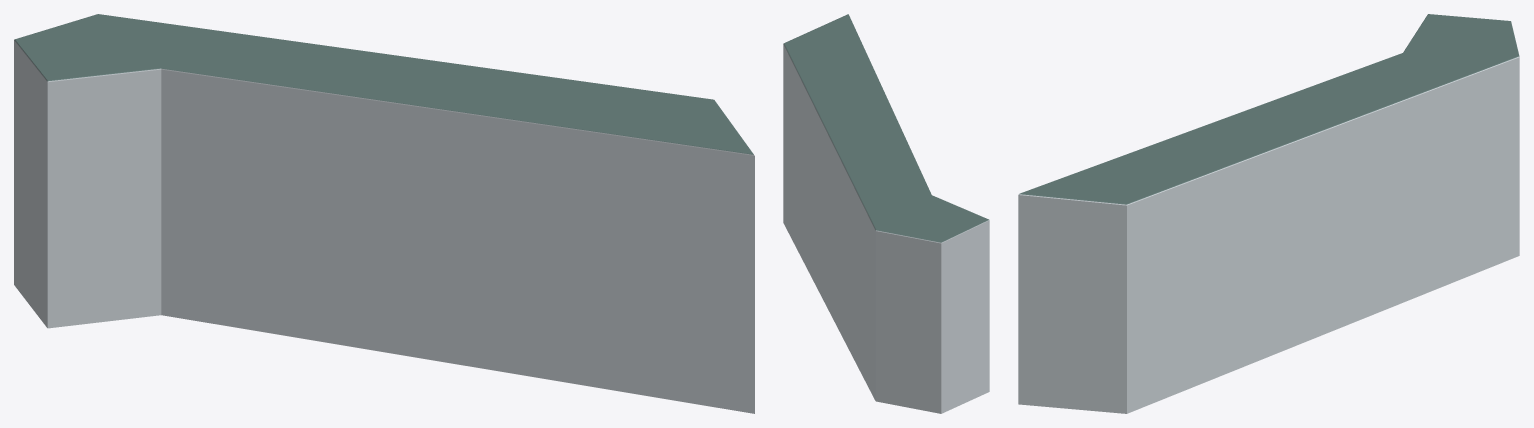
The model's file is fragments.glb.
The picture shows the model from 3 angles, left to right: view 1: azimuth 30°, elevation 25°; view 2: azimuth 150°, elevation 25°; view 3: azimuth 270°, elevation 25°; orthographic projection. The views are drawn at different scales.
Visible parts, largest first — view 1: SM_osm-468931896_Fragment_016, SM_osm-468931896_Fragment_034, SM_osm-468931896_Fragment_049, SM_osm-468931896_Fragment_012, SM_osm-468931896_Fragment_008, SM_osm-468931896_Fragment_045, SM_osm-468931896_Fragment_027, SM_osm-468931896_Fragment_028, SM_osm-468931896_Fragment_038, SM_osm-468931896_Fragment_062, SM_osm-468931896_Fragment_019, SM_osm-468931896_Fragment_026 (+31 smaller); view 2: SM_osm-468931896_Fragment_032, SM_osm-468931896_Fragment_060, SM_osm-468931896_Fragment_042, SM_osm-468931896_Fragment_002, SM_osm-468931896_Fragment_024, SM_osm-468931896_Fragment_058, SM_osm-468931896_Fragment_005, SM_osm-468931896_Fragment_020, SM_osm-468931896_Fragment_007, SM_osm-468931896_Fragment_022, SM_osm-468931896_Fragment_013, SM_osm-468931896_Fragment_008 (+28 smaller); view 3: SM_osm-468931896_Fragment_023, SM_osm-468931896_Fragment_020, SM_osm-468931896_Fragment_000, SM_osm-468931896_Fragment_017, SM_osm-468931896_Fragment_005, SM_osm-468931896_Fragment_035, SM_osm-468931896_Fragment_040, SM_osm-468931896_Fragment_051, SM_osm-468931896_Fragment_039, SM_osm-468931896_Fragment_056, SM_osm-468931896_Fragment_031, SM_osm-468931896_Fragment_025 (+29 smaller).
Boxes of the visible parts, bbox=[...] form: SM_osm-468931896_Fragment_016: bbox=[611, 176, 754, 286]; SM_osm-468931896_Fragment_034: bbox=[77, 150, 199, 268]; SM_osm-468931896_Fragment_049: bbox=[142, 60, 253, 203]; SM_osm-468931896_Fragment_012: bbox=[594, 261, 708, 390]; SM_osm-468931896_Fragment_008: bbox=[418, 83, 550, 183]; SM_osm-468931896_Fragment_045: bbox=[340, 69, 443, 199]; SM_osm-468931896_Fragment_027: bbox=[216, 60, 355, 145]; SM_osm-468931896_Fragment_028: bbox=[508, 229, 616, 339]; SM_osm-468931896_Fragment_038: bbox=[364, 212, 493, 318]; SM_osm-468931896_Fragment_062: bbox=[67, 49, 170, 161]; SM_osm-468931896_Fragment_019: bbox=[156, 202, 257, 326]; SM_osm-468931896_Fragment_026: bbox=[342, 257, 462, 365]; SM_osm-468931896_Fragment_032: bbox=[875, 296, 956, 374]; SM_osm-468931896_Fragment_060: bbox=[867, 215, 931, 291]; SM_osm-468931896_Fragment_042: bbox=[904, 356, 977, 413]; SM_osm-468931896_Fragment_002: bbox=[938, 263, 989, 342]; SM_osm-468931896_Fragment_024: bbox=[879, 222, 953, 271]; SM_osm-468931896_Fragment_058: bbox=[911, 220, 979, 303]; SM_osm-468931896_Fragment_005: bbox=[837, 146, 896, 227]; SM_osm-468931896_Fragment_020: bbox=[822, 123, 872, 223]; SM_osm-468931896_Fragment_007: bbox=[864, 182, 932, 236]; SM_osm-468931896_Fragment_022: bbox=[953, 321, 989, 396]; SM_osm-468931896_Fragment_013: bbox=[942, 211, 989, 265]; SM_osm-468931896_Fragment_008: bbox=[834, 77, 895, 117]; SM_osm-468931896_Fragment_023: bbox=[1018, 175, 1130, 261]; SM_osm-468931896_Fragment_020: bbox=[1289, 107, 1370, 207]; SM_osm-468931896_Fragment_000: bbox=[1269, 203, 1350, 296]; SM_osm-468931896_Fragment_017: bbox=[1438, 145, 1519, 257]; SM_osm-468931896_Fragment_005: bbox=[1324, 76, 1418, 185]; SM_osm-468931896_Fragment_035: bbox=[1018, 246, 1083, 352]; SM_osm-468931896_Fragment_040: bbox=[1387, 73, 1484, 160]; SM_osm-468931896_Fragment_051: bbox=[1343, 185, 1419, 295]; SM_osm-468931896_Fragment_039: bbox=[1214, 130, 1295, 230]; SM_osm-468931896_Fragment_056: bbox=[1060, 267, 1134, 366]; SM_osm-468931896_Fragment_031: bbox=[1103, 258, 1187, 331]; SM_osm-468931896_Fragment_025: bbox=[1085, 328, 1164, 409].
Size of the model in its own units: 1.98 by 1.02 by 2.2.
